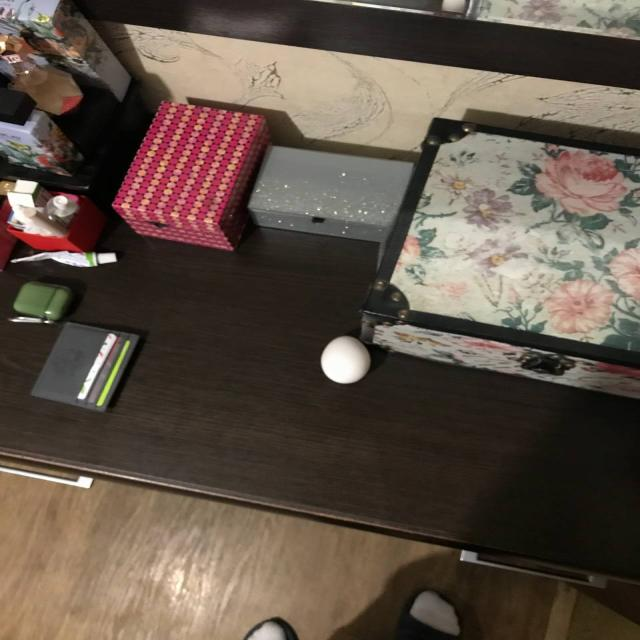egg: (320, 334, 372, 384)
